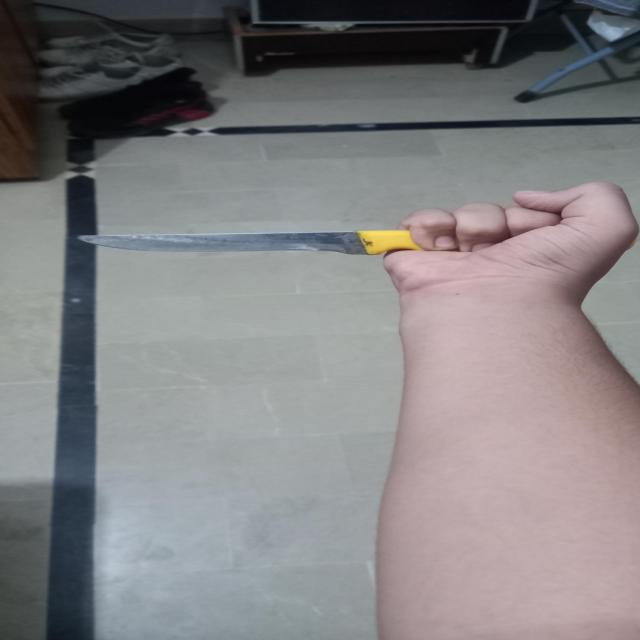weapon: (80, 229, 423, 254)
